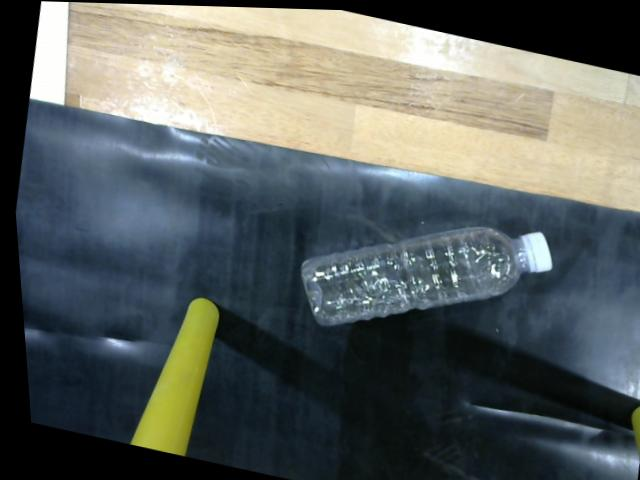bottle: (297, 214, 553, 327)
